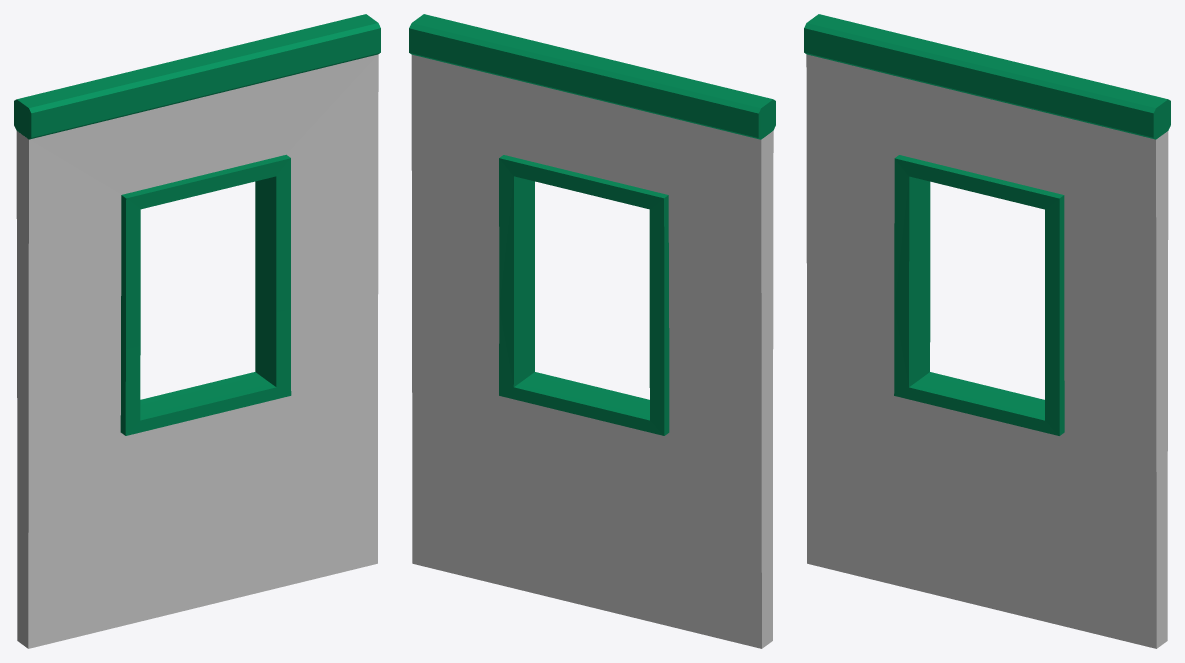
Rendered from wall_39.fbx.
The picture shows the model from 3 angles, left to right: view 1: azimuth 30°, elevation 25°; view 2: azimuth 150°, elevation 25°; view 3: azimuth 330°, elevation 25°; orthographic projection.
Visible parts, largest first — view 1: WALL_5.011; view 2: WALL_5.011; view 3: WALL_5.011.
Boxes of the visible parts, x1=… form: WALL_5.011: x1=14, y1=14, x2=380, y2=648; WALL_5.011: x1=409, y1=14, x2=775, y2=648; WALL_5.011: x1=804, y1=14, x2=1170, y2=648.
Bounding box in the file's own units: 3.26 × 4.83 × 0.3453.
